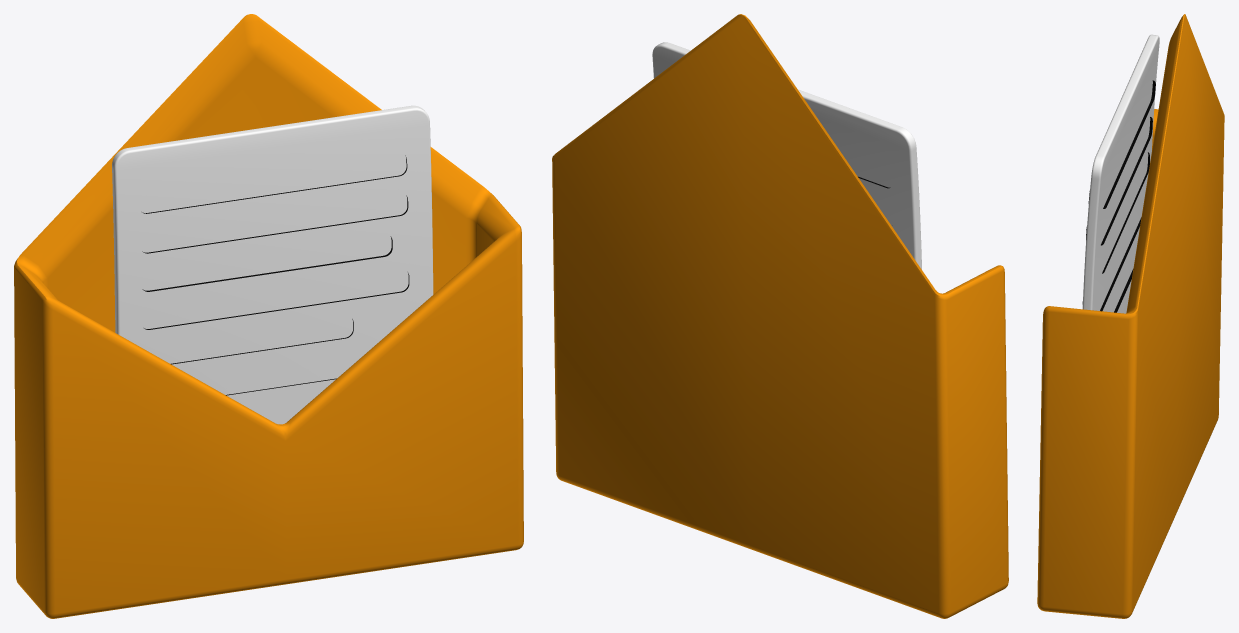
File: email1.glb
The picture shows the model from 3 angles, left to right: view 1: azimuth 30°, elevation 25°; view 2: azimuth 150°, elevation 25°; view 3: azimuth 270°, elevation 25°; orthographic projection. The views are drawn at different scales.
Parts seen in each view (by area): view 1: Cube.063, NurbsPath.004; view 2: Cube.063, NurbsPath.004; view 3: Cube.063, NurbsPath.004, Cube.064, Cube.065, Cube.066, Cube.067.
Part boxes in pixels (box(x1,y1,x2,y2)): Cube.063: box(14, 14, 523, 618); NurbsPath.004: box(112, 105, 433, 424); Cube.063: box(552, 14, 1008, 618); NurbsPath.004: box(652, 42, 921, 269); Cube.063: box(1037, 14, 1224, 618); NurbsPath.004: box(1082, 34, 1159, 313); Cube.064: box(1088, 80, 1155, 208); Cube.065: box(1086, 117, 1152, 245); Cube.066: box(1102, 152, 1149, 273); Cube.067: box(1082, 217, 1141, 311).
Size of the model in its own units: 4.15 by 4.71 by 1.57.
